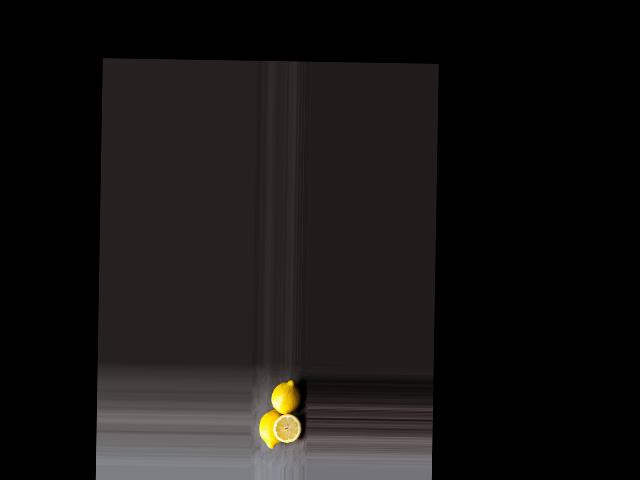lemon: (255, 408, 283, 451)
